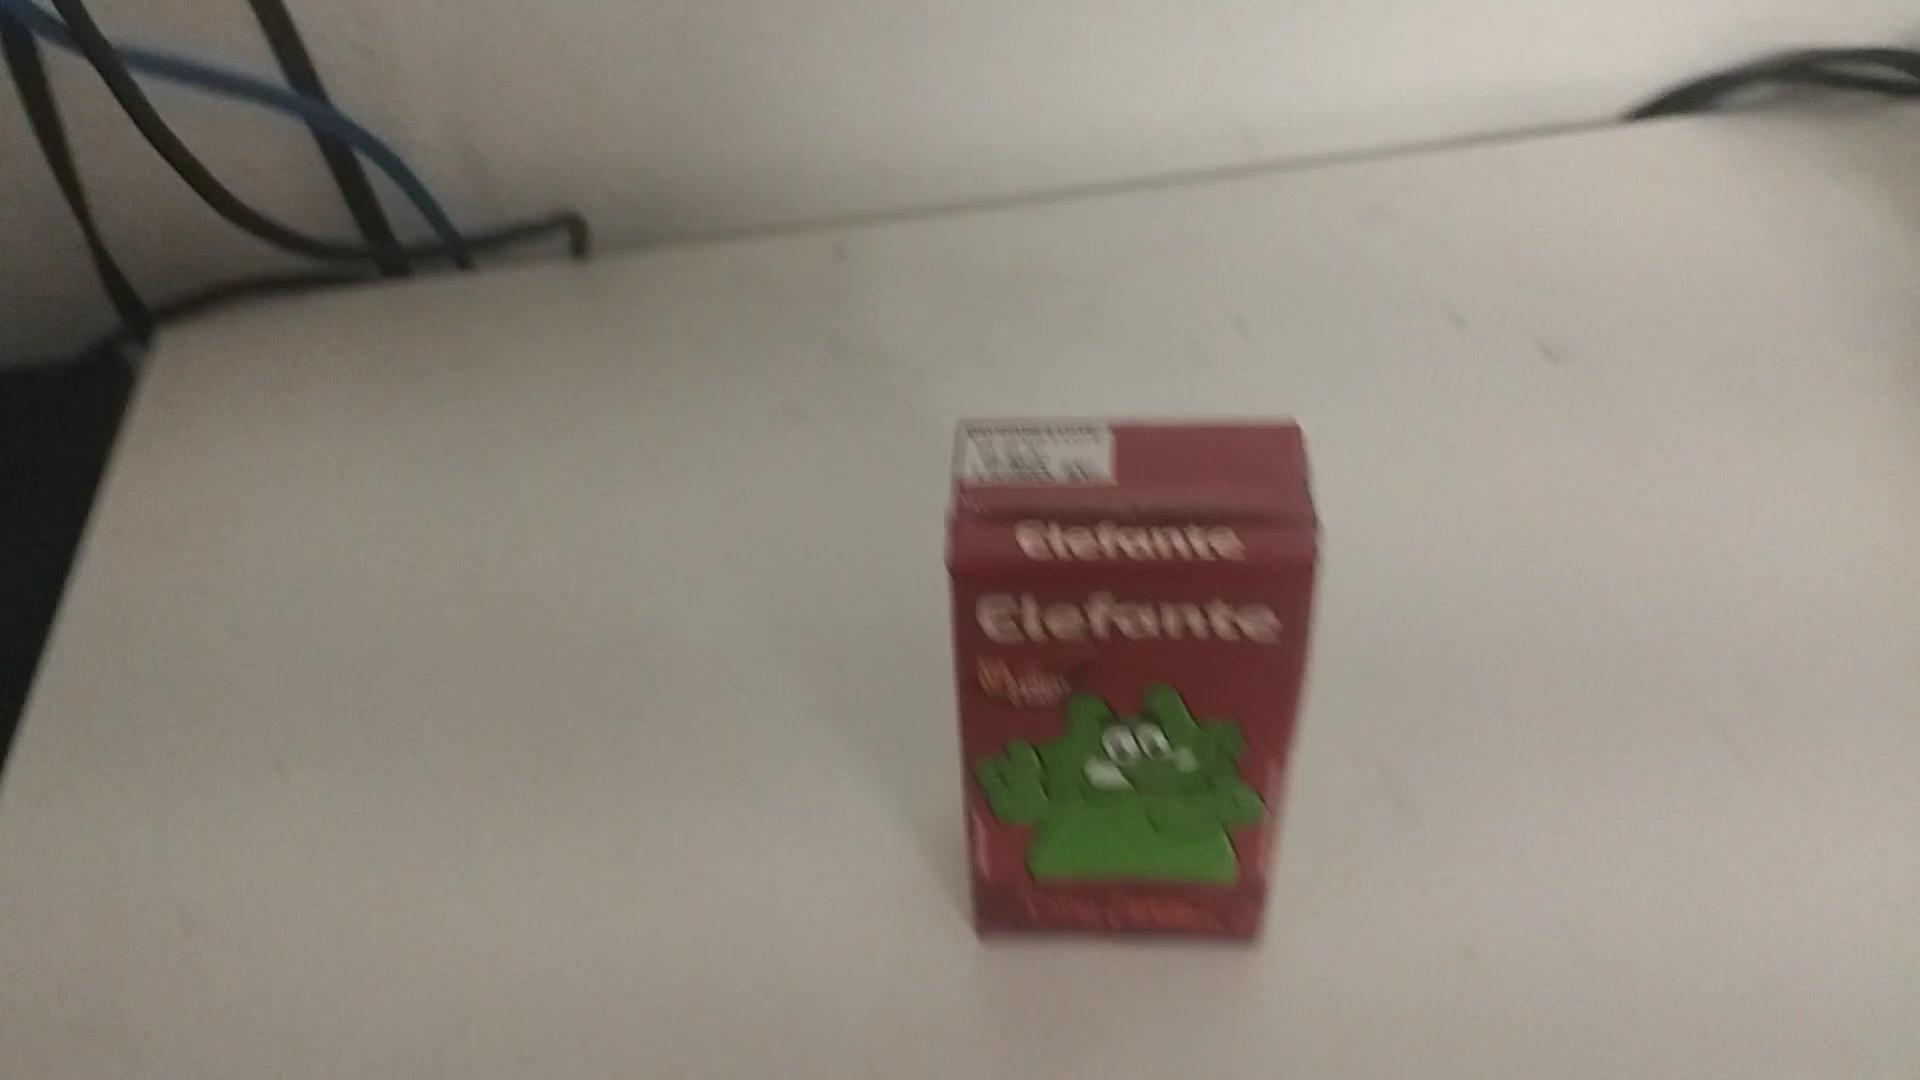tomate: (932, 398, 1329, 947)
